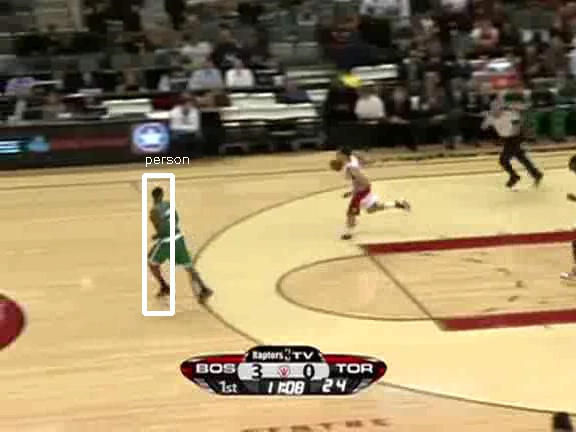person: (154, 194, 188, 275), (153, 194, 187, 275), (155, 194, 189, 275), (154, 193, 188, 274), (154, 195, 188, 276)
target_negative: (171, 173, 460, 383), (54, 252, 459, 293), (424, 154, 501, 229), (445, 335, 544, 361), (253, 218, 291, 259), (565, 359, 567, 414)
